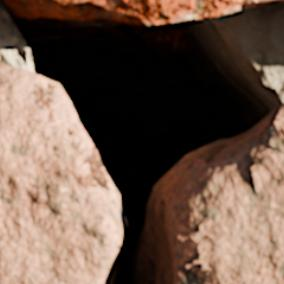brick: (5, 0, 283, 23)
broken_brick: (0, 62, 120, 283), (158, 103, 283, 283)
crack: (2, 0, 282, 283)
